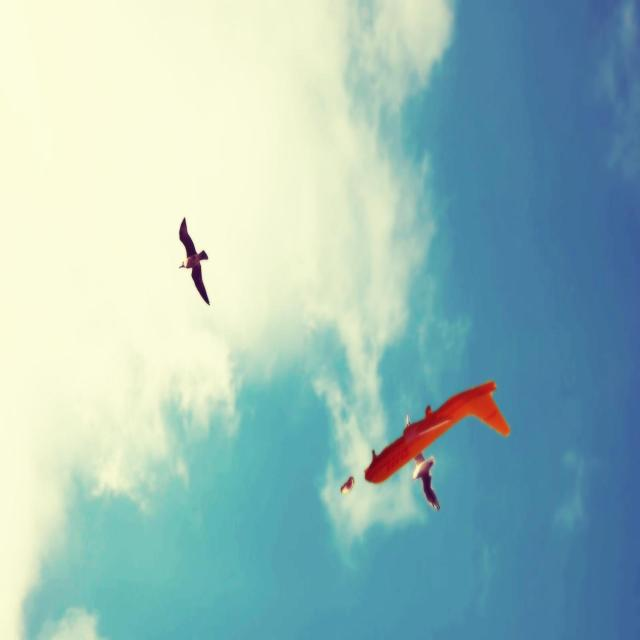airplane: (364, 382, 511, 486)
